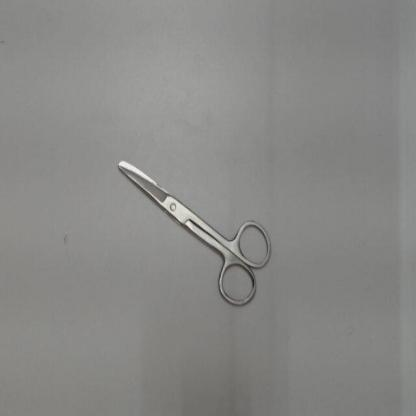Dressing Scissors: (108, 147, 280, 318)
